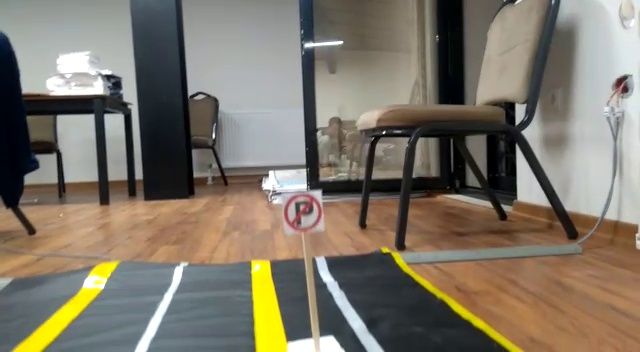park_yapilmaz: (284, 195, 325, 233)
